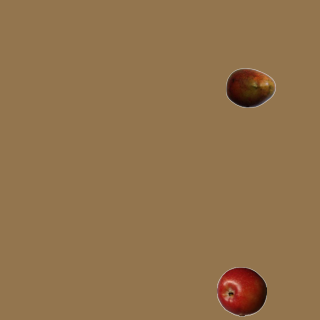Apple Braeburn: (216, 266, 266, 316)
Mango Red: (225, 62, 275, 112)
